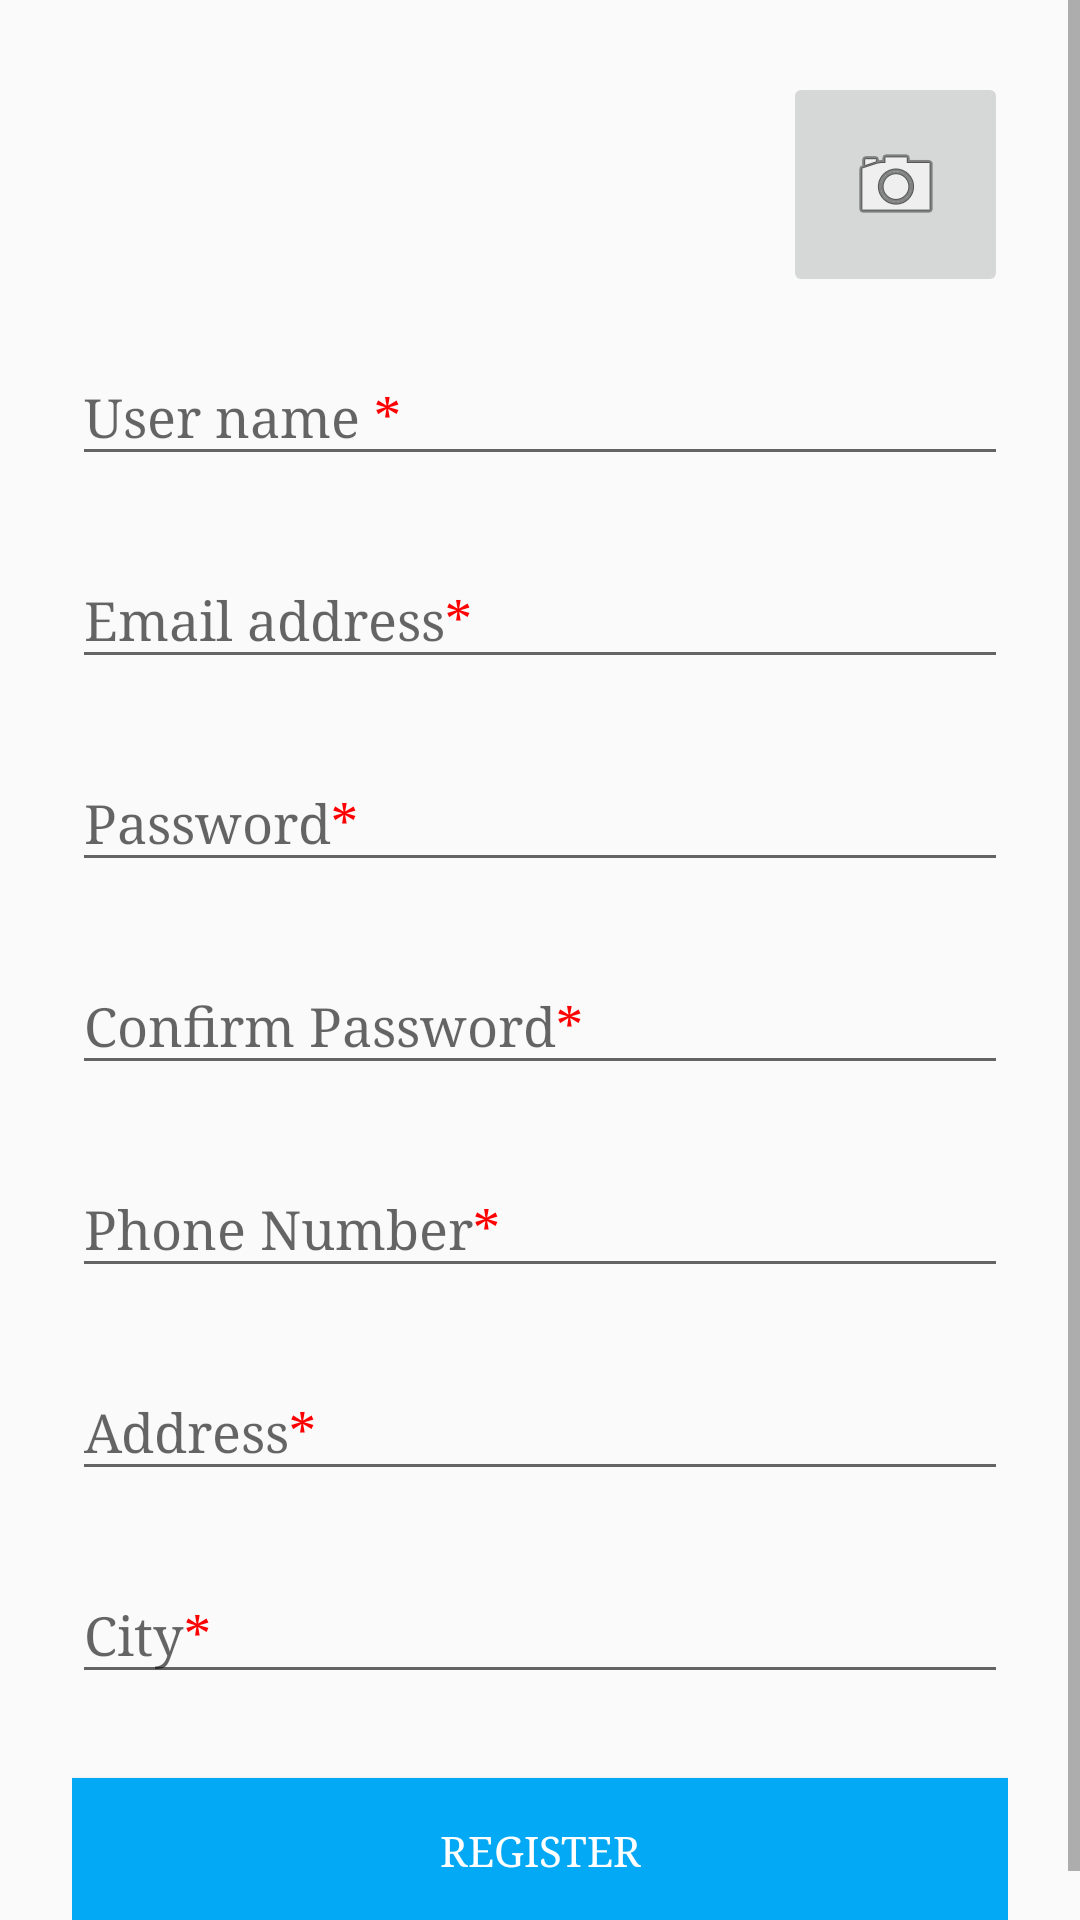

Named icons in this screenshot (1080 × 1920) and their centers, (x,y):
camera: (895,184)
